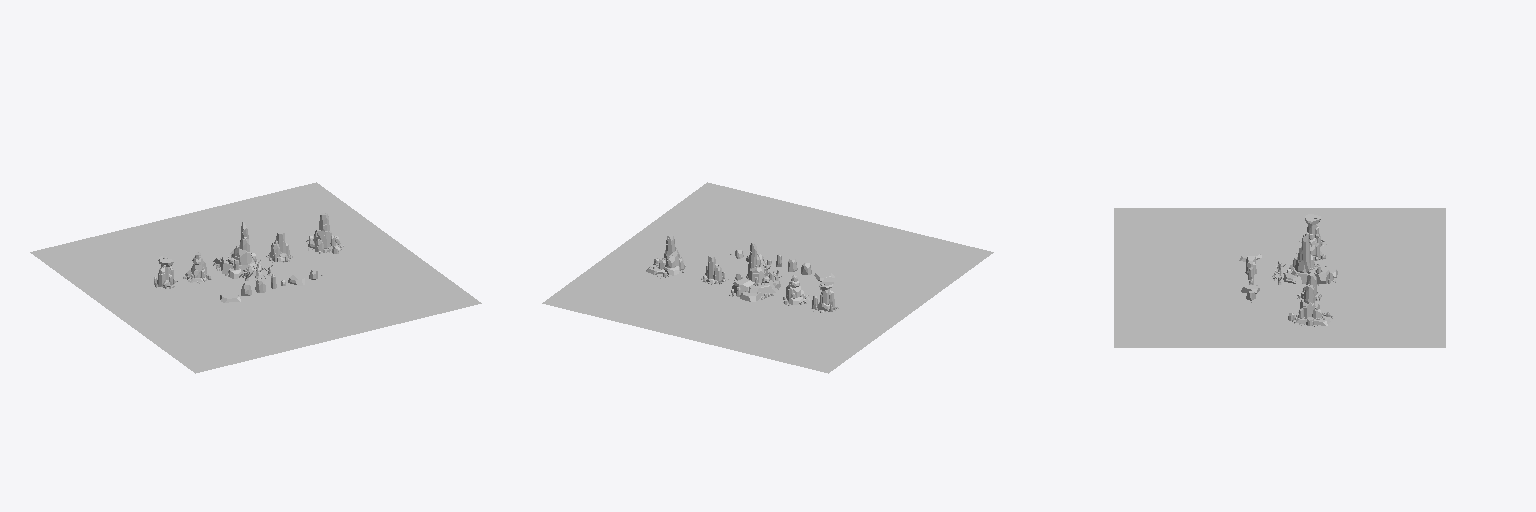
Rendered from 20_environment_trees_red.obj.
3 renders of one model, left to right at view 1: azimuth 30°, elevation 25°; view 2: azimuth 150°, elevation 25°; view 3: azimuth 270°, elevation 25°, orthographic.
Visible parts, largest first — view 1: ground_Plane, big_rock_03_Cylinder.068, big_rock_05_Cylinder.200; view 2: ground_Plane, big_rock_03_Cylinder.068, big_rock_05_Cylinder.200; view 3: ground_Plane, big_rock_03_Cylinder.068, big_rock_05_Cylinder.200.
Boxes of the visible parts, <box> form: ground_Plane: <box>30,182,481,373</box>; big_rock_03_Cylinder.068: <box>213,222,261,278</box>; big_rock_05_Cylinder.200: <box>306,213,343,253</box>; ground_Plane: <box>542,182,993,373</box>; big_rock_03_Cylinder.068: <box>729,243,780,301</box>; big_rock_05_Cylinder.200: <box>646,234,686,278</box>; ground_Plane: <box>1114,208,1445,347</box>; big_rock_03_Cylinder.068: <box>1283,234,1337,285</box>; big_rock_05_Cylinder.200: <box>1288,284,1332,326</box>.
Size of the model in its own units: 55.99 by 8.75 by 55.99.